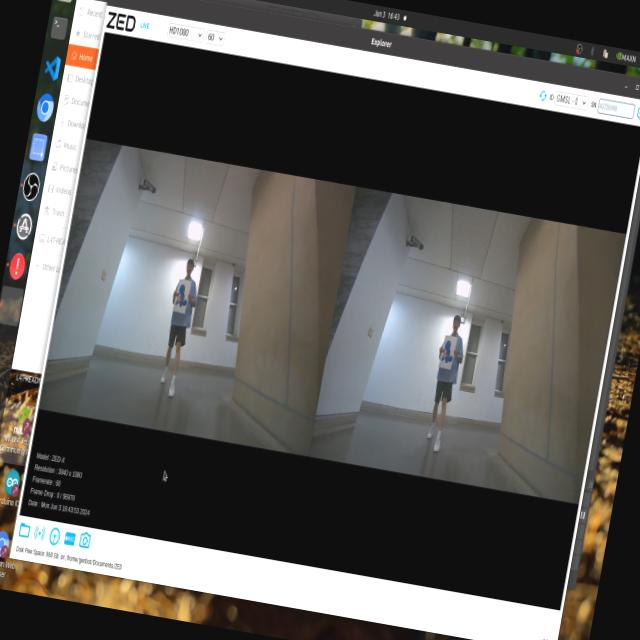blue: (172, 276, 194, 312), (439, 340, 461, 366)
